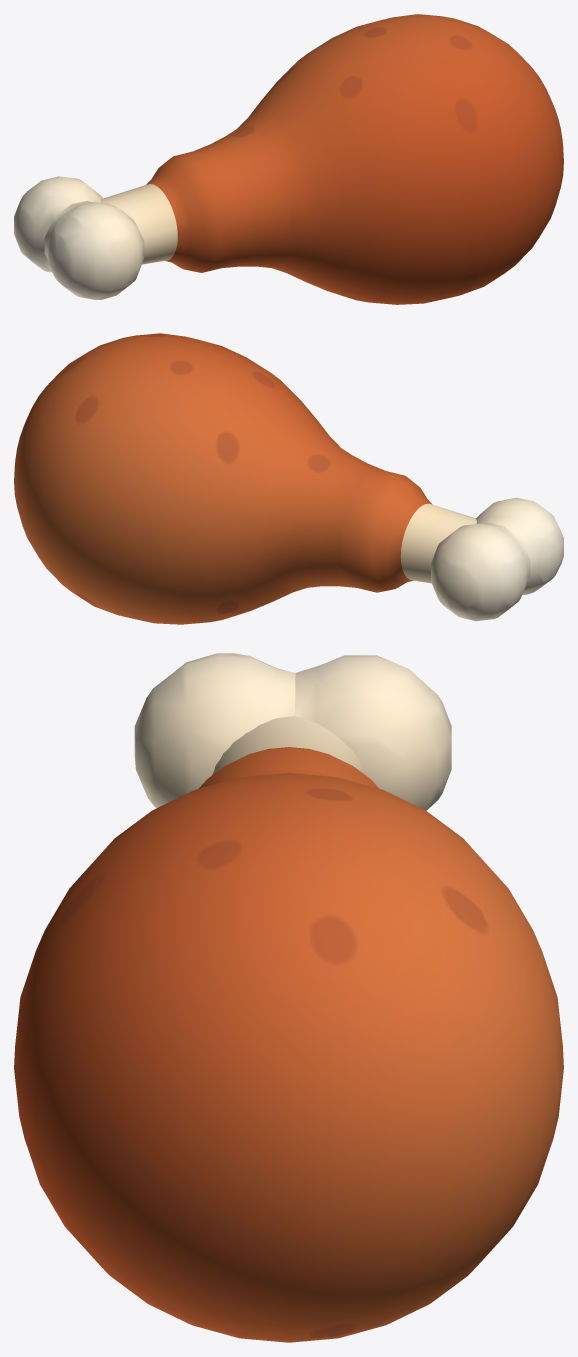
The model's file is Chicken Leg.fbx.
3 views of the same model, one above another, from view 1: azimuth 30°, elevation 25°; view 2: azimuth 150°, elevation 25°; view 3: azimuth 270°, elevation 25° (orthographic). The views are drawn at different scales.
Parts seen in each view (by area): view 1: Chicken Leg; view 2: Chicken Leg; view 3: Chicken Leg.
Part boxes in pixels (x1,y1,x2,y2): Chicken Leg: (14,14,563,304); Chicken Leg: (14,333,563,624); Chicken Leg: (14,653,563,1342).
Bounding box in the file's own units: 22.64 × 11.12 × 11.12.
